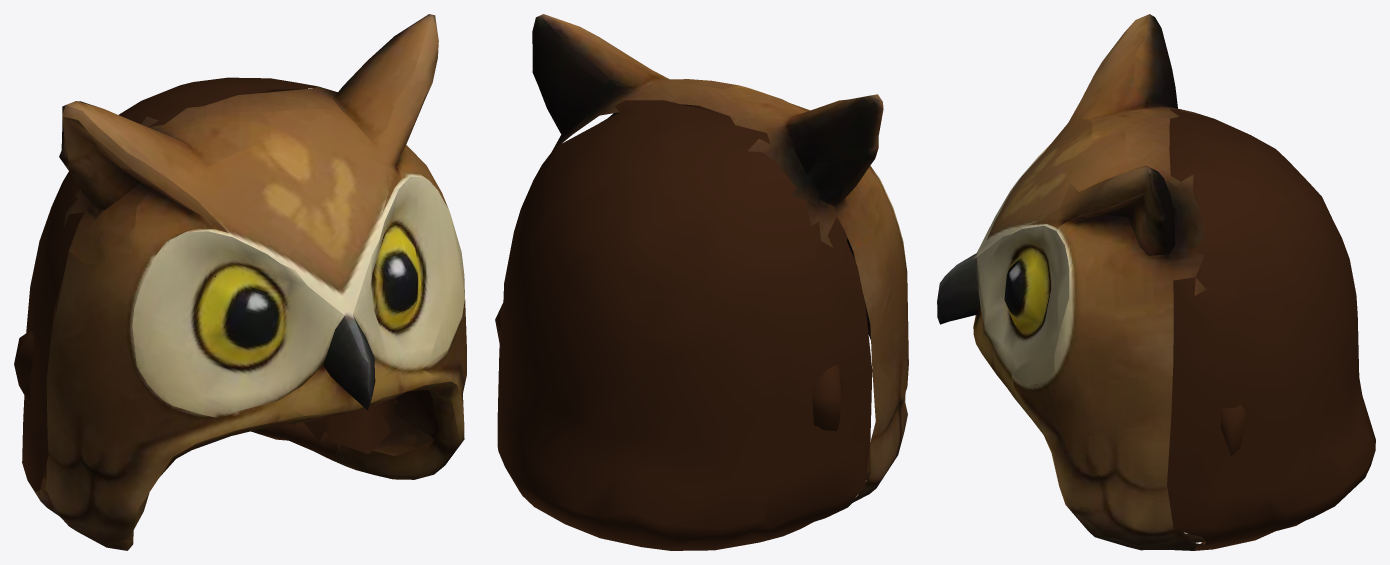
Rendered from owl.glb.
3 views of the same model, side by side, from view 1: azimuth 30°, elevation 25°; view 2: azimuth 150°, elevation 25°; view 3: azimuth 270°, elevation 25° (orthographic). The views are drawn at different scales.
Visible parts, largest first — view 1: geometry_0, HoodAnatomicalLining; view 2: geometry_0, HoodAnatomicalLining; view 3: geometry_0, HoodAnatomicalLining.
Boxes of the visible parts, x1,y1,x2,y2 form: geometry_0: (22,14,466,550); HoodAnatomicalLining: (14,262,395,454); geometry_0: (497,14,908,550); HoodAnatomicalLining: (495,105,847,431); geometry_0: (937,14,1375,550); HoodAnatomicalLining: (1193,175,1248,455).
Size of the model in its own units: 0.4744 by 0.5387 by 0.5309.
2 materials, 1 textured.
